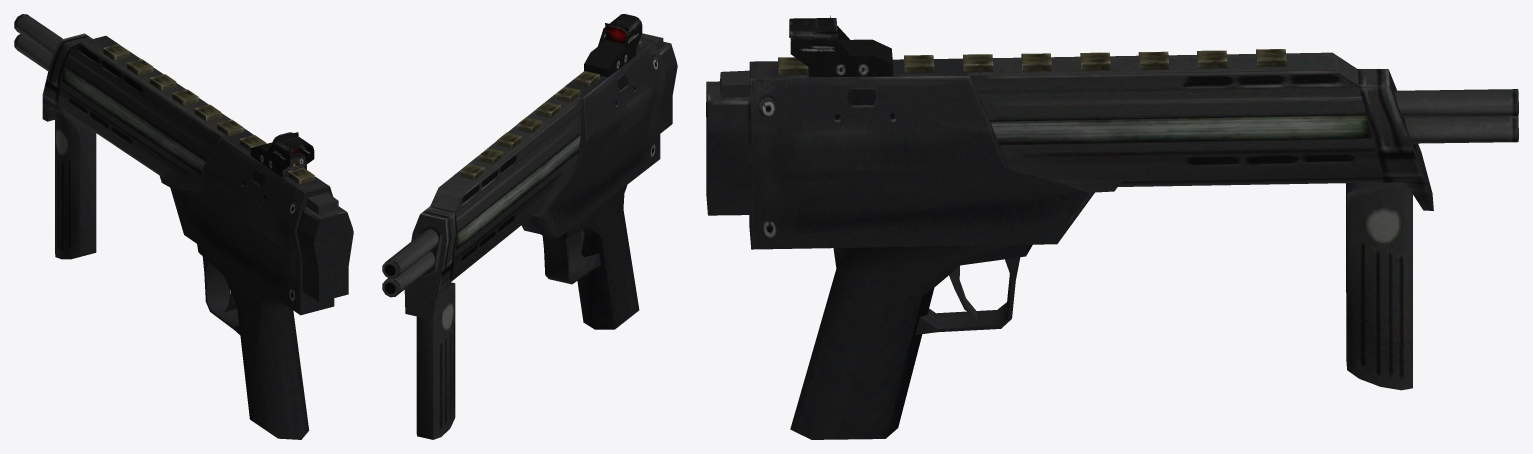
Rendered from hl2-smg-half-life-2.glb.
3 views of the same model, side by side, from view 1: azimuth 30°, elevation 25°; view 2: azimuth 150°, elevation 25°; view 3: azimuth 270°, elevation 25° (orthographic). The views are drawn at different scales.
Bounding box in the file's own units: 2 × 10.08 × 18.24.
2 materials, 2 textured.
